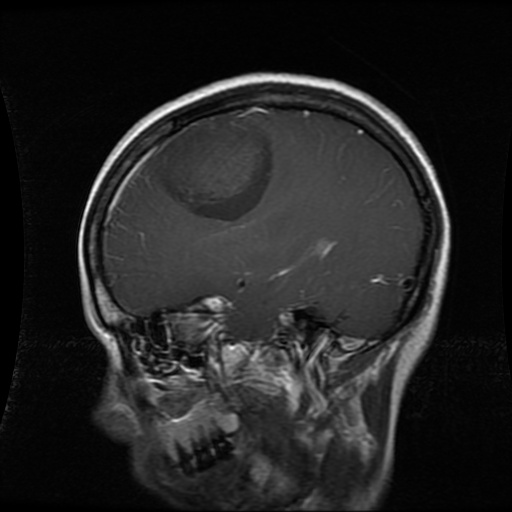glioma: (148, 116, 275, 221)
